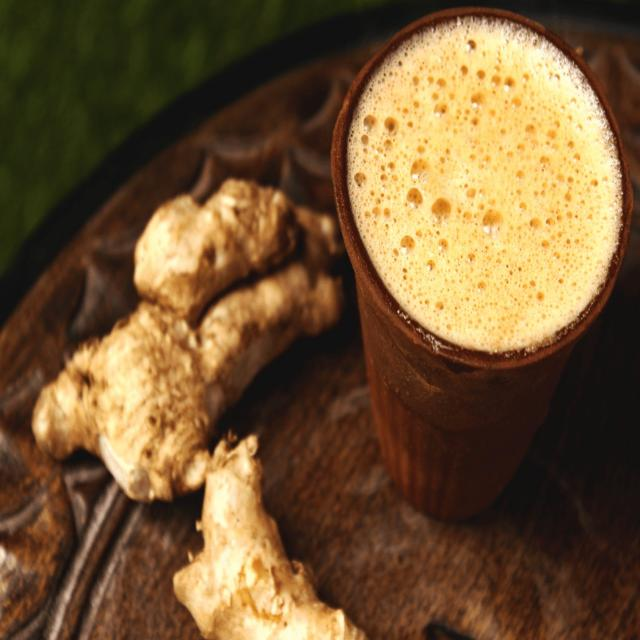Chai: (348, 16, 614, 352)
